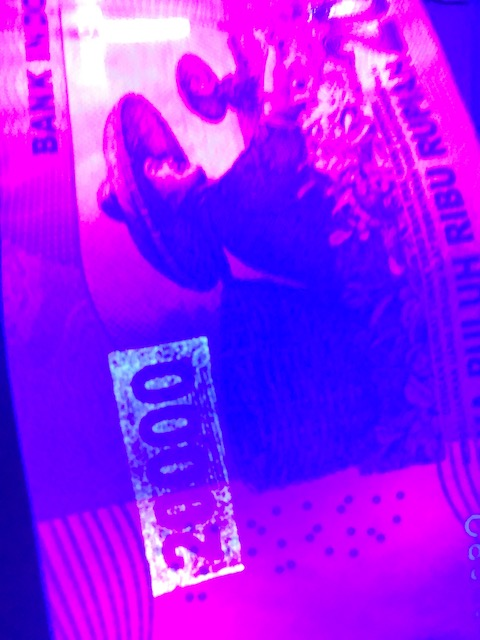20_RIBU_ASLI: (104, 329, 252, 597)
